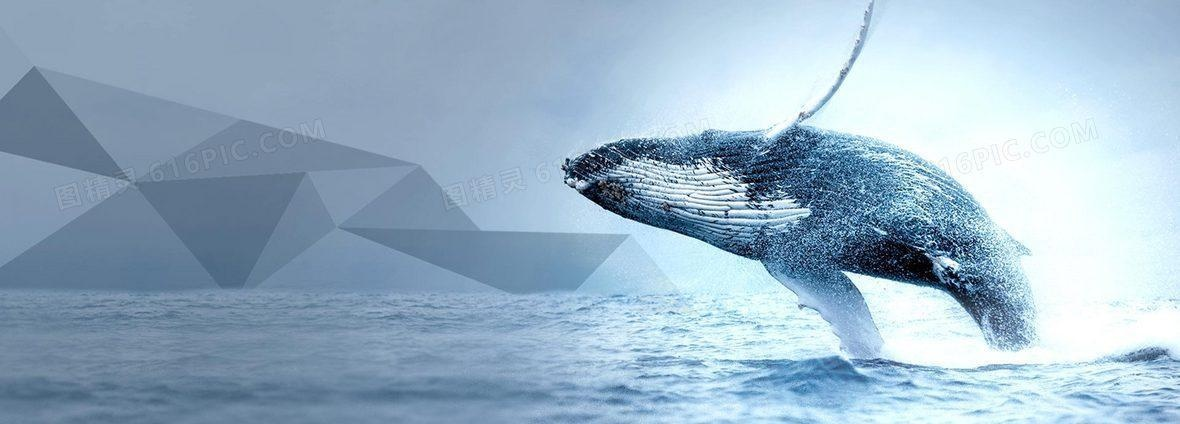fish: (539, 1, 1060, 372)
